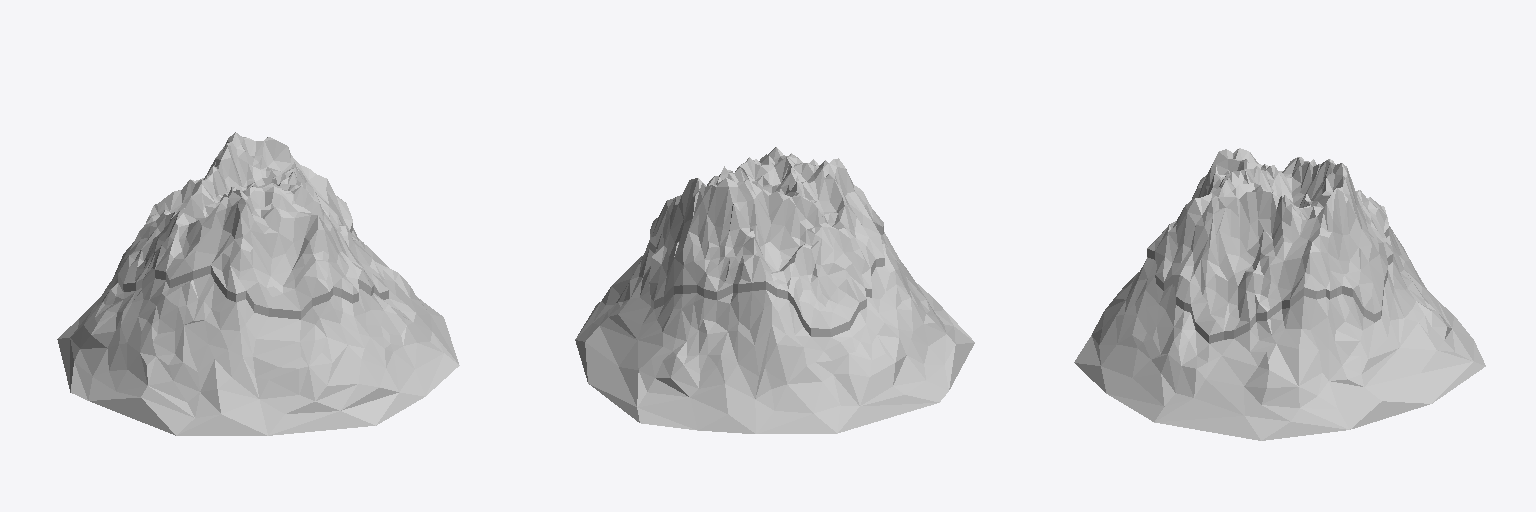
The model's file is Mountain2.obj.
3 views of the same model, side by side, from view 1: azimuth 30°, elevation 25°; view 2: azimuth 150°, elevation 25°; view 3: azimuth 270°, elevation 25° (orthographic).
Parts seen in each view (by area): view 1: PP_Forest_Mountain_Moss_02.002; view 2: PP_Forest_Mountain_Moss_02.002; view 3: PP_Forest_Mountain_Moss_02.002.
Part boxes in pixels (x1,y1,x2,y2): PP_Forest_Mountain_Moss_02.002: (57, 132, 459, 435); PP_Forest_Mountain_Moss_02.002: (575, 147, 974, 433); PP_Forest_Mountain_Moss_02.002: (1074, 148, 1485, 440).
Size of the model in its own units: 40.42 by 21.3 by 40.42.